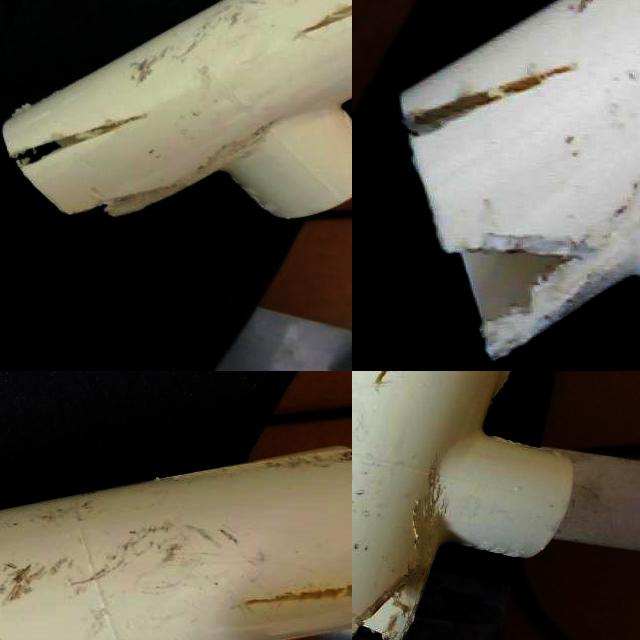Defective: (425, 204, 619, 352), (394, 55, 591, 154), (363, 469, 448, 640), (238, 586, 352, 640), (607, 122, 640, 229), (63, 111, 151, 147), (8, 140, 110, 167), (256, 450, 352, 474)
T Joint: (0, 446, 352, 640), (352, 371, 573, 640)
